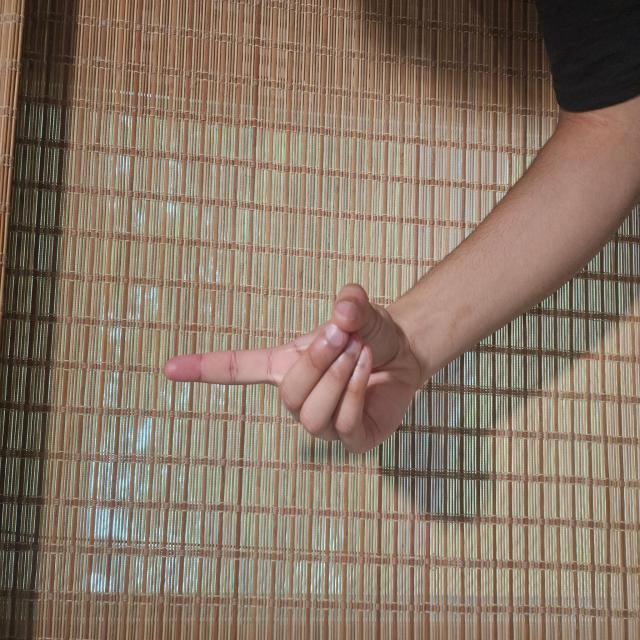D: (137, 216, 272, 572)
